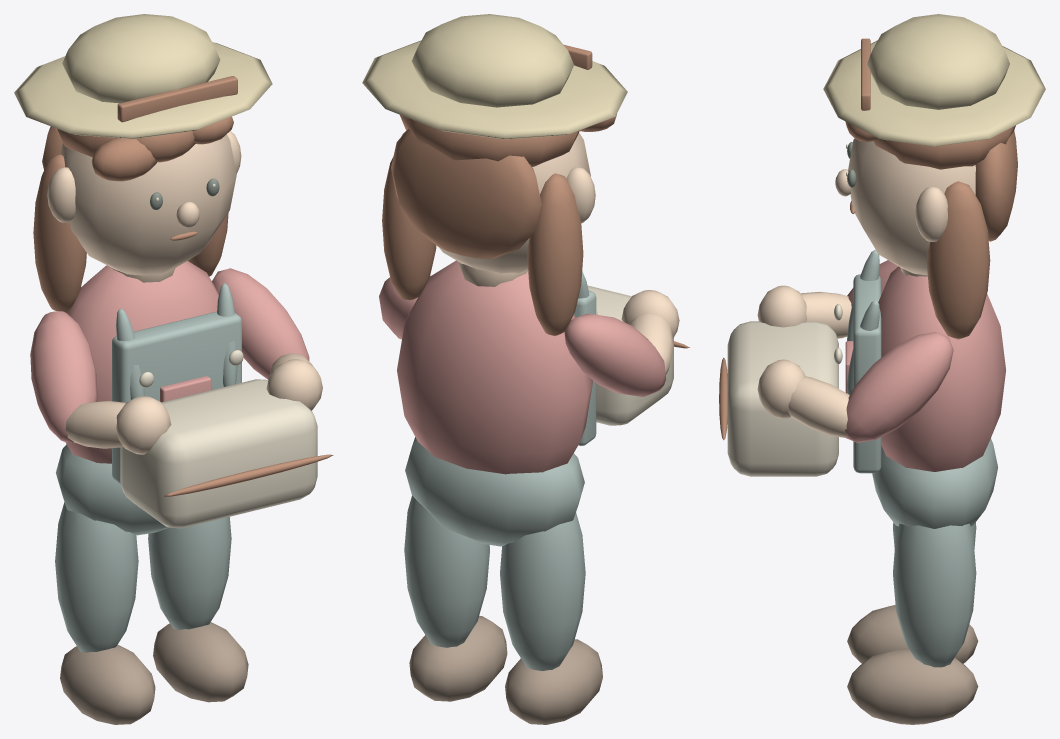
Rendered from abbie-carry.glb.
3 views of the same model, side by side, from view 1: azimuth 30°, elevation 25°; view 2: azimuth 150°, elevation 25°; view 3: azimuth 270°, elevation 25° (orthographic). The views are drawn at different scales.
Parts seen in each view (by area): view 1: Supply parcel, Head.001, Straw crown.001, Soft straw brim.001, Trouser leg.002, Padded shirt.001, Overall bib.001, Trouser leg.003, Shirt sleeve.002, Rounded boot.003, Rounded boot.002, Shirt sleeve.003 (+16 smaller); view 2: Padded shirt.001, Hair back.001, Straw crown.001, Soft straw brim.001, Soft trouser seat.001, Trouser leg.002, Trouser leg.003, Long side lock.002, Shirt sleeve.002, Rounded boot.002, Rounded boot.003, Long side lock.003 (+9 smaller); view 3: Padded shirt.001, Supply parcel, Straw crown.001, Soft straw brim.001, Trouser leg.003, Head.001, Shirt sleeve.003, Long side lock.003, Rounded boot.003, Soft trouser seat.001, Overall bib.001, Hair back.001 (+11 smaller).
Boxes of the visible parts, left/top/right/bottom form: Supply parcel: left=120, top=379, right=317, bottom=528; Head.001: left=60, top=134, right=236, bottom=275; Straw crown.001: left=62, top=14, right=220, bottom=103; Soft straw brim.001: left=14, top=42, right=272, bottom=138; Trouser leg.002: left=55, top=502, right=138, bottom=652; Padded shirt.001: left=65, top=261, right=218, bottom=463; Overall bib.001: left=112, top=311, right=241, bottom=483; Trouser leg.003: left=148, top=517, right=231, bottom=629; Shirt sleeve.002: left=30, top=311, right=97, bottom=442; Rounded boot.003: left=153, top=622, right=248, bottom=702; Rounded boot.002: left=60, top=645, right=155, bottom=724; Shirt sleeve.003: left=212, top=268, right=309, bottom=379; Padded shirt.001: left=397, top=260, right=592, bottom=474; Hair back.001: left=391, top=128, right=541, bottom=259; Straw crown.001: left=412, top=14, right=573, bottom=107; Soft straw brim.001: left=362, top=40, right=627, bottom=139; Soft trouser seat.001: left=405, top=437, right=584, bottom=546; Trouser leg.002: left=500, top=512, right=585, bottom=670; Trouser leg.003: left=404, top=495, right=489, bottom=647; Long side lock.002: left=527, top=173, right=583, bottom=336; Shirt sleeve.002: left=564, top=313, right=665, bottom=396; Rounded boot.002: left=505, top=639, right=602, bottom=724; Rounded boot.003: left=409, top=616, right=507, bottom=701; Long side lock.003: left=382, top=157, right=436, bottom=300; Padded shirt.001: left=878, top=266, right=1005, bottom=471; Supply parcel: left=727, top=321, right=838, bottom=476; Straw crown.001: left=867, top=14, right=1009, bottom=109; Soft straw brim.001: left=823, top=40, right=1045, bottom=146; Trouser leg.003: left=893, top=523, right=976, bottom=667; Head.001: left=848, top=138, right=975, bottom=275; Shirt sleeve.003: left=844, top=332, right=953, bottom=442; Long side lock.003: left=926, top=181, right=990, bottom=339; Rounded boot.003: left=847, top=648, right=978, bottom=724; Soft trouser seat.001: left=872, top=438, right=997, bottom=528; Overall bib.001: left=853, top=274, right=881, bottom=473; Hair back.001: left=975, top=131, right=1017, bottom=241.
Bounding box in the file's own units: 0.6607 × 1.64 × 0.7234.
